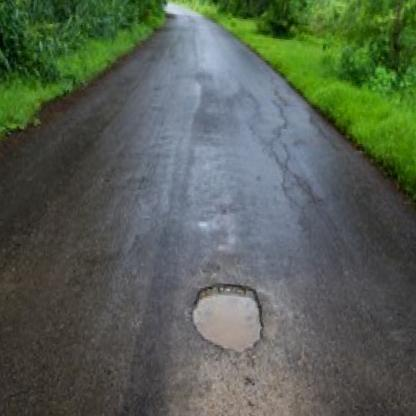pothole: (185, 278, 269, 359)
